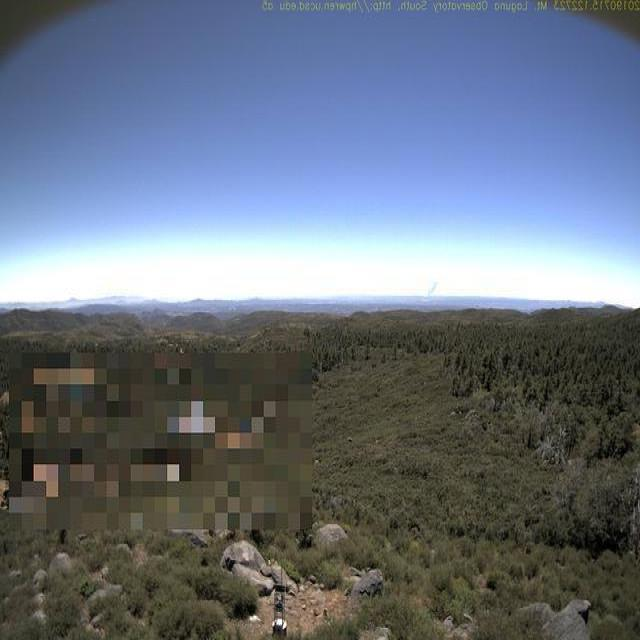Smoke: (427, 280, 441, 299)
